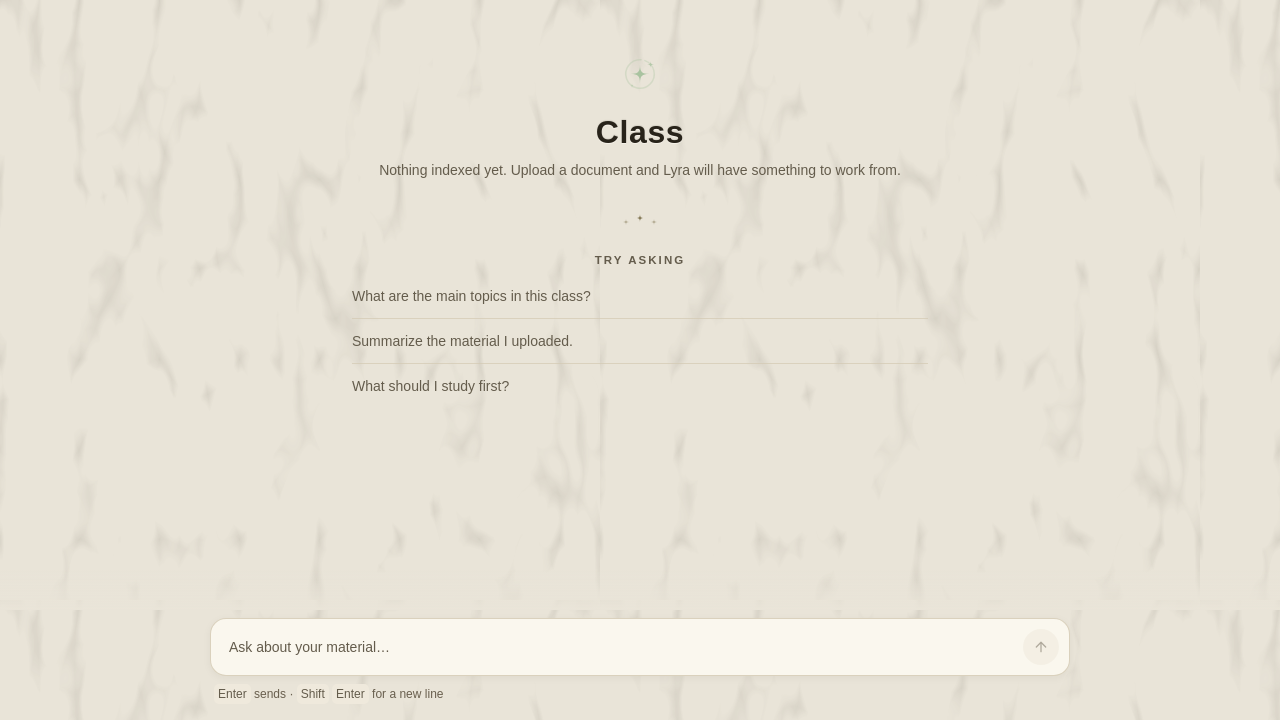
Test: Follow-up drafting (embedded writer: false) › warns visibly when a prompt write is refused by storage
Step 1. Type "Keep a copy of this" into the text box named "Message Lyra" → (618, 647), box [221,629,1015,665]
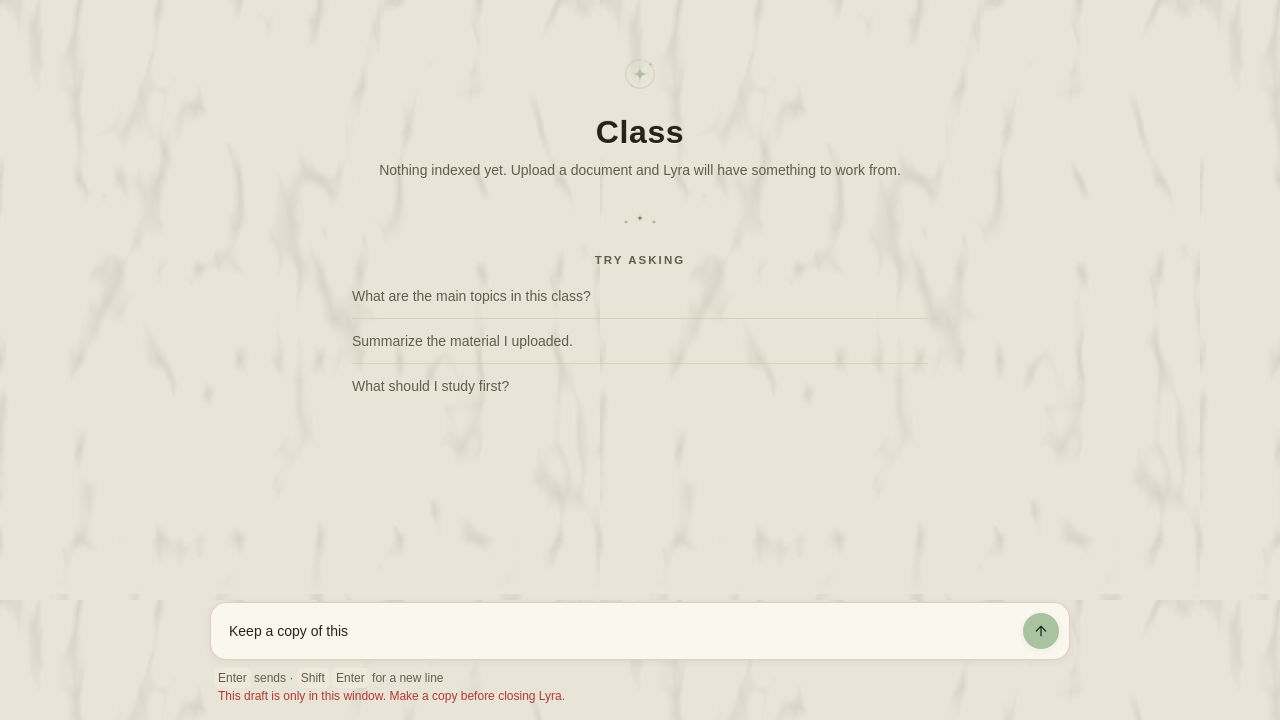
Expected: the message shows "only in this window", [218,689,565,703]
